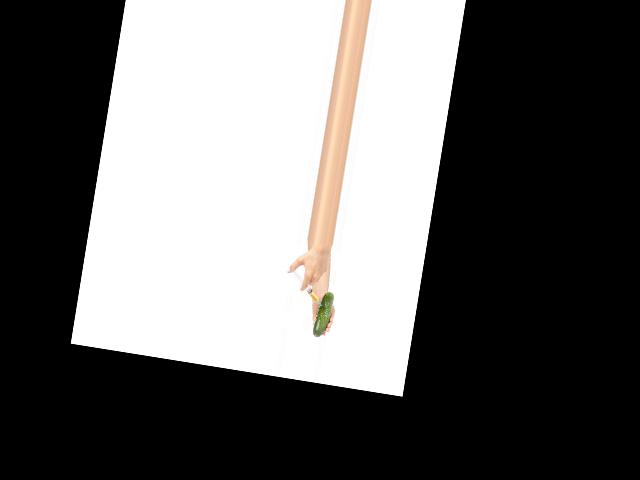cucumber: (312, 291, 334, 339)
